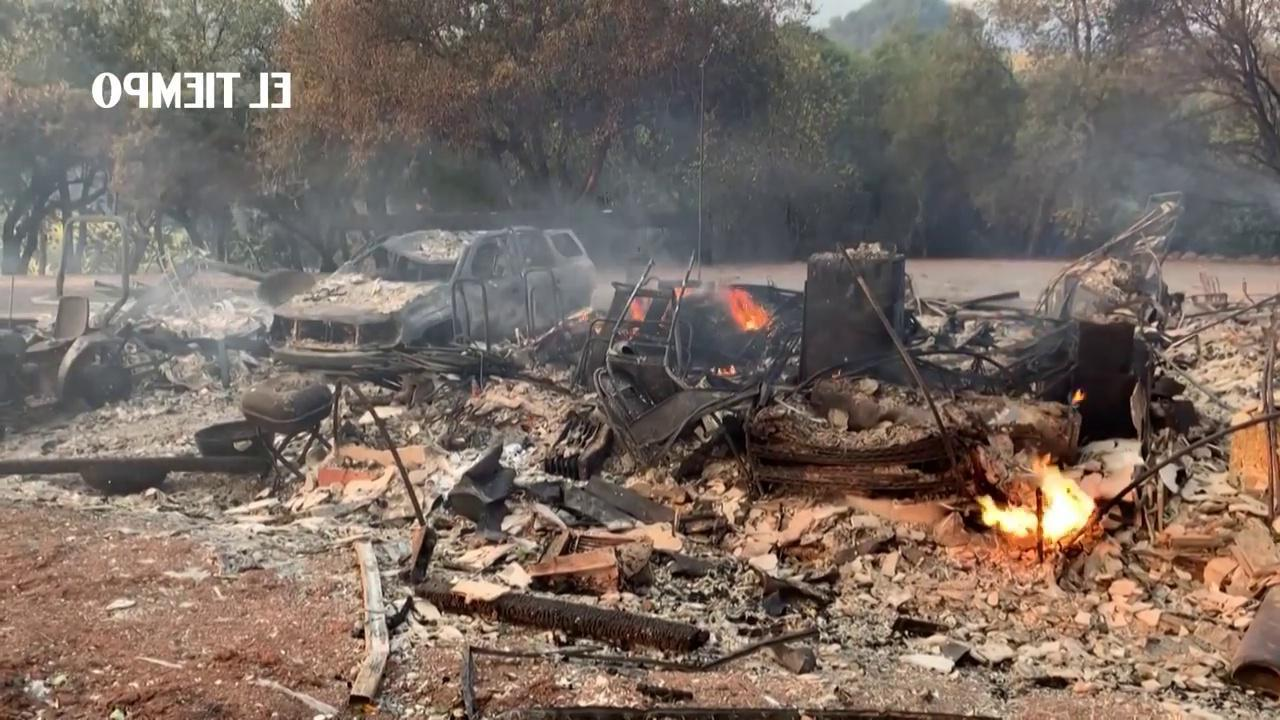Fire: (975, 463, 1091, 544), (726, 284, 775, 331)
